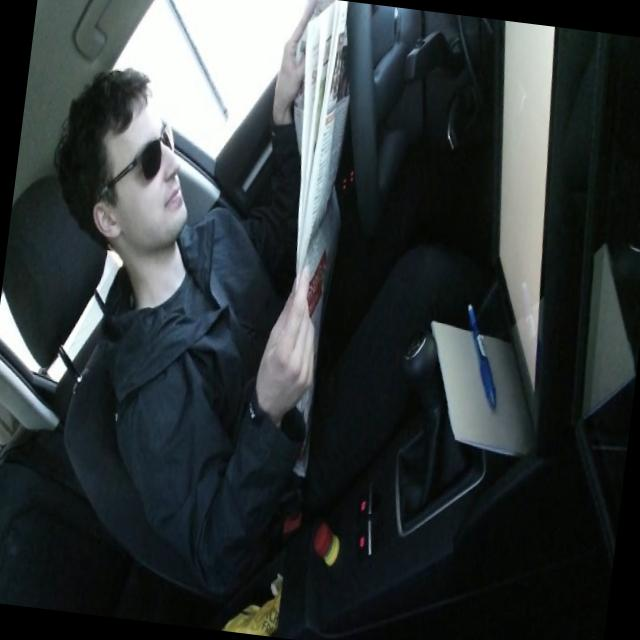pen: (454, 299, 508, 412)
